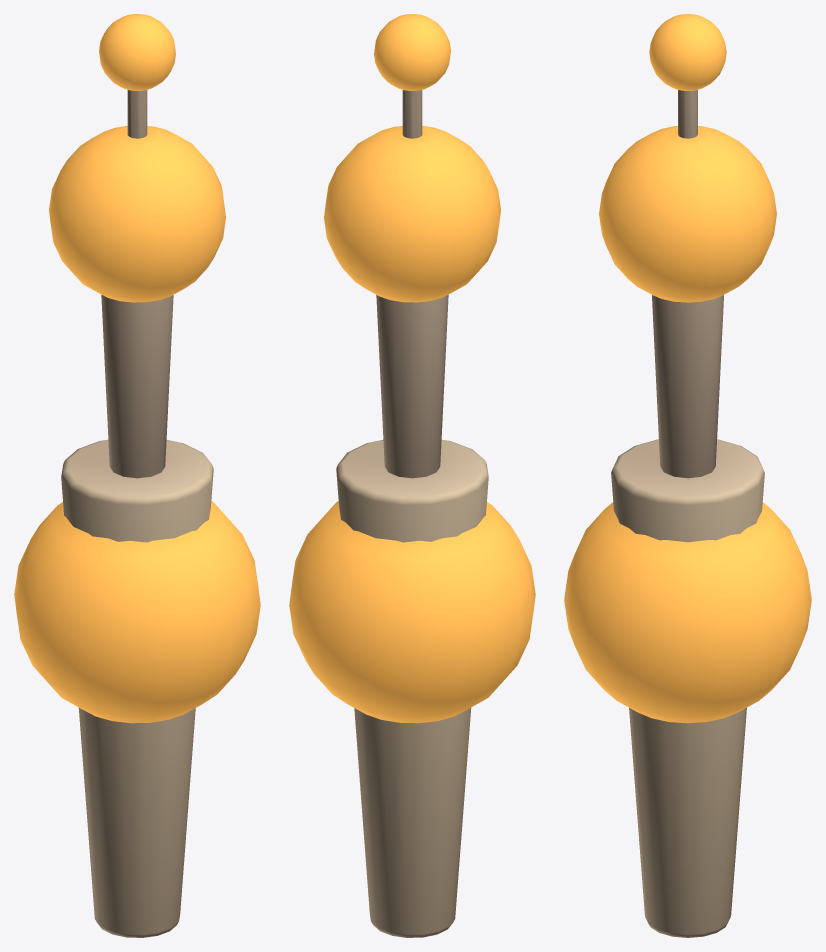
3 views of the same model, side by side, from view 1: azimuth 30°, elevation 25°; view 2: azimuth 150°, elevation 25°; view 3: azimuth 270°, elevation 25° (orthographic).
Parts seen in each view (by area): view 1: landmark_16d61877; view 2: landmark_16d61877; view 3: landmark_16d61877.
Boxes of the visible parts, bbox=[...] form: landmark_16d61877: bbox=[14, 14, 260, 937]; landmark_16d61877: bbox=[289, 14, 535, 937]; landmark_16d61877: bbox=[564, 14, 811, 937].
Size of the model in its own units: 3.2 by 12.9 by 3.2.
